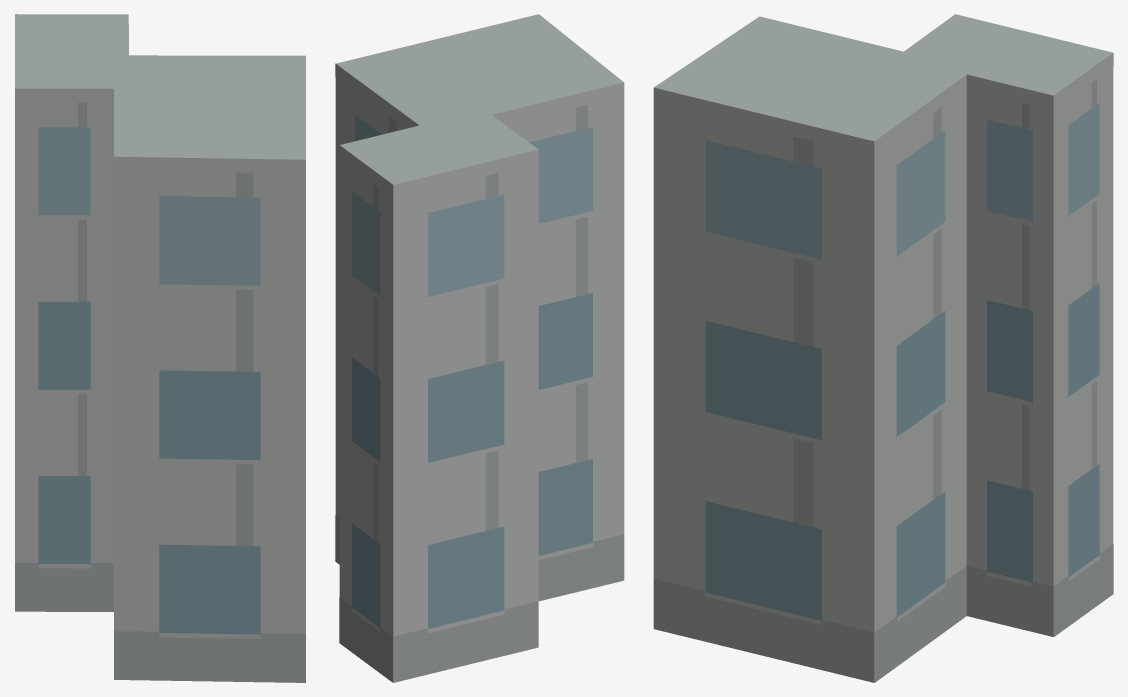
The model's file is survey-upis-32821690.glb.
3 renders of one model, left to right at view 1: azimuth 30°, elevation 25°; view 2: azimuth 150°, elevation 25°; view 3: azimuth 270°, elevation 25°, orthographic. The views are drawn at different scales.
Visible parts, largest first — view 1: survey-upis-32821690.tmp; view 2: survey-upis-32821690.tmp; view 3: survey-upis-32821690.tmp.
Part boxes in pixels (bbox=[...]): survey-upis-32821690.tmp: bbox=[15, 14, 305, 682]; survey-upis-32821690.tmp: bbox=[335, 14, 624, 682]; survey-upis-32821690.tmp: bbox=[653, 14, 1113, 682].
Size of the model in its own units: 4.63 by 9.15 by 7.05.
